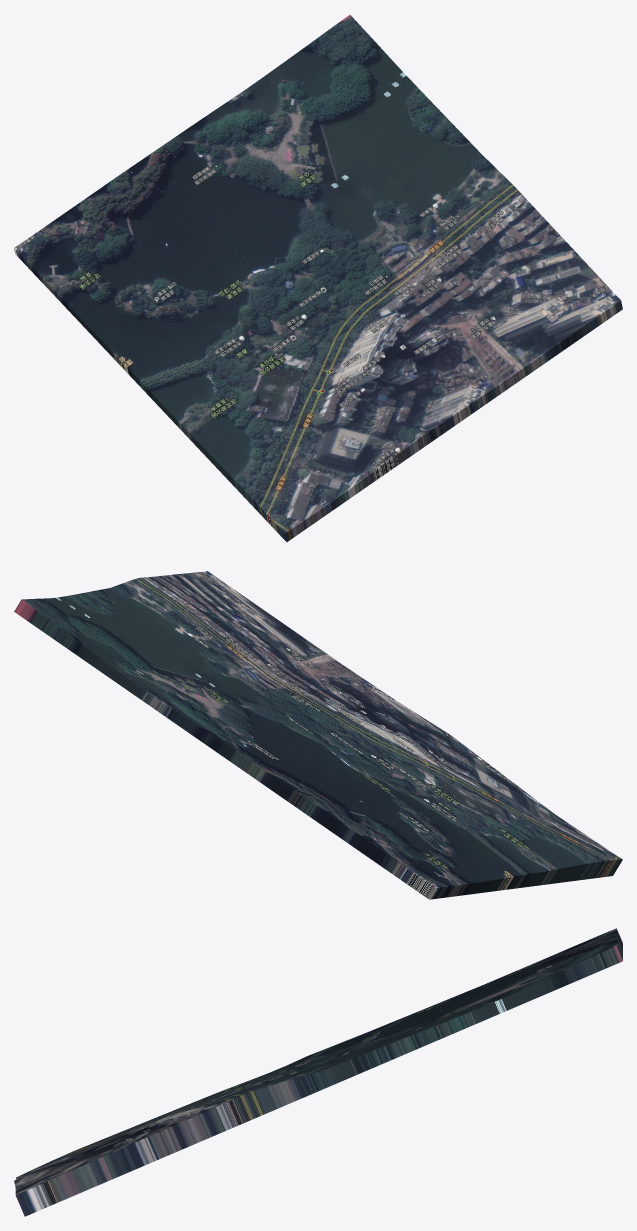
3 views of the same model, one above another, from view 1: azimuth 30°, elevation 25°; view 2: azimuth 150°, elevation 25°; view 3: azimuth 270°, elevation 25° (orthographic). The views are drawn at different scales.
Visible parts, largest first — view 1: 0_7_8; view 2: 0_7_8; view 3: 0_7_8.
Boxes of the visible parts, x1,y1,x2,y2 form: 0_7_8: (14, 15, 622, 542); 0_7_8: (14, 571, 622, 899); 0_7_8: (14, 928, 622, 1216).
Size of the model in its own units: 597 by 441 by 552.
1 material, 1 textured.
